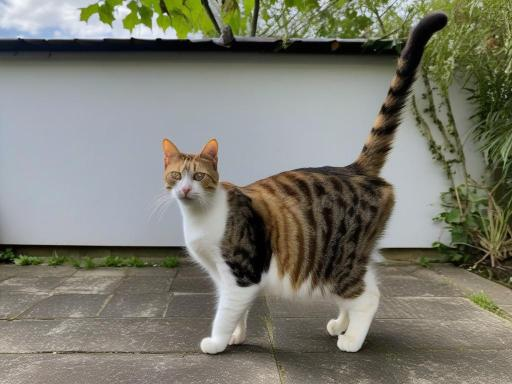cat_standing: (163, 12, 446, 354)
